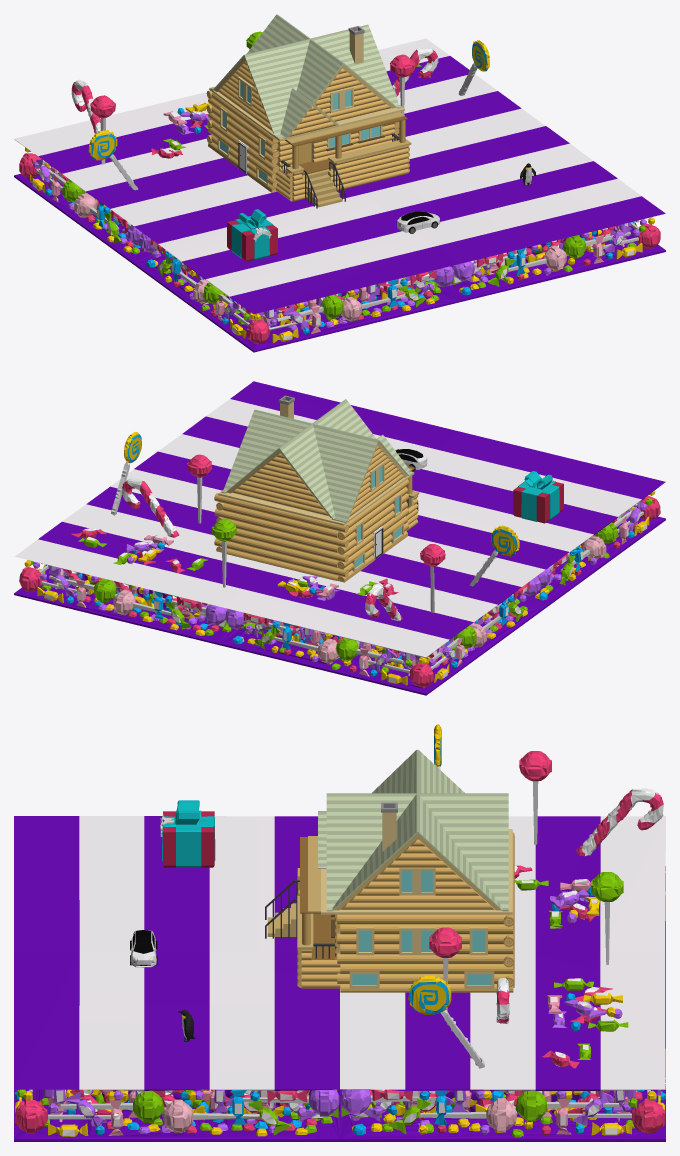
3 views of the same model, one above another, from view 1: azimuth 30°, elevation 25°; view 2: azimuth 150°, elevation 25°; view 3: azimuth 270°, elevation 25° (orthographic). The views are drawn at different scales.
Parts seen in each view (by area): view 1: TERRAIN_CANDY, Cube.1516, OBJRANDOM_GIANT_PRESENT, VEHICLES_TESLA; view 2: TERRAIN_CANDY, Cube.1516, OBJRANDOM_GIANT_PRESENT; view 3: TERRAIN_CANDY, Cube.1516, OBJRANDOM_GIANT_PRESENT, VEHICLES_TESLA.
Part boxes in pixels (x1,y1,x2,y2): TERRAIN_CANDY: (14,31,665,352); Cube.1516: (206,14,411,208); OBJRANDOM_GIANT_PRESENT: (227,209,277,261); VEHICLES_TESLA: (397,211,440,233); TERRAIN_CANDY: (14,381,665,695); Cube.1516: (214,395,419,582); OBJRANDOM_GIANT_PRESENT: (513,471,563,523); TERRAIN_CANDY: (14,724,665,1141); Cube.1516: (265,749,514,992); OBJRANDOM_GIANT_PRESENT: (160,800,215,867); VEHICLES_TESLA: (130,930,157,967).
Size of the model in its own units: 4059 by 1534 by 4000.
Materials: 28 (4 with a texture image).
